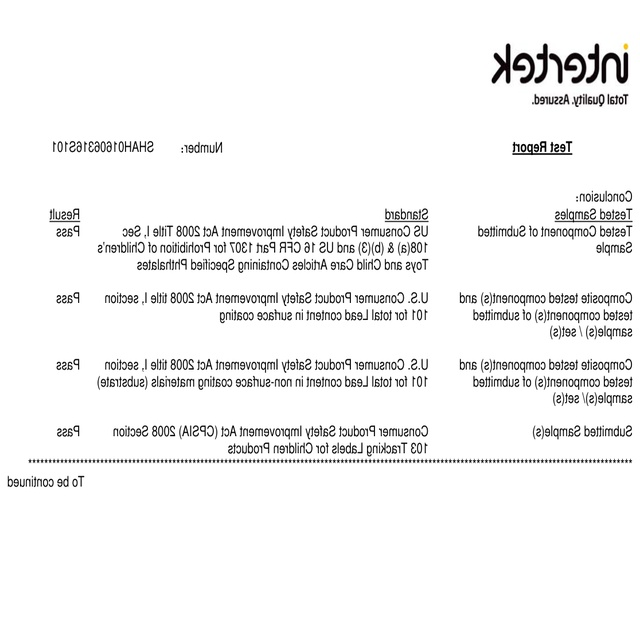intertek: (487, 38, 632, 89)
